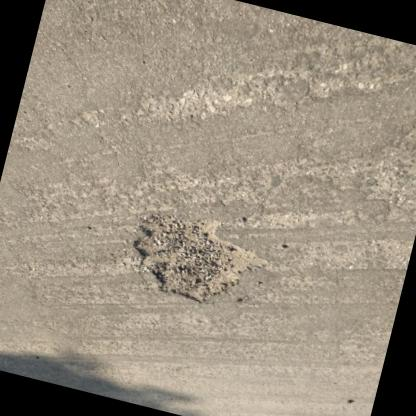pothole: (118, 200, 276, 320)
